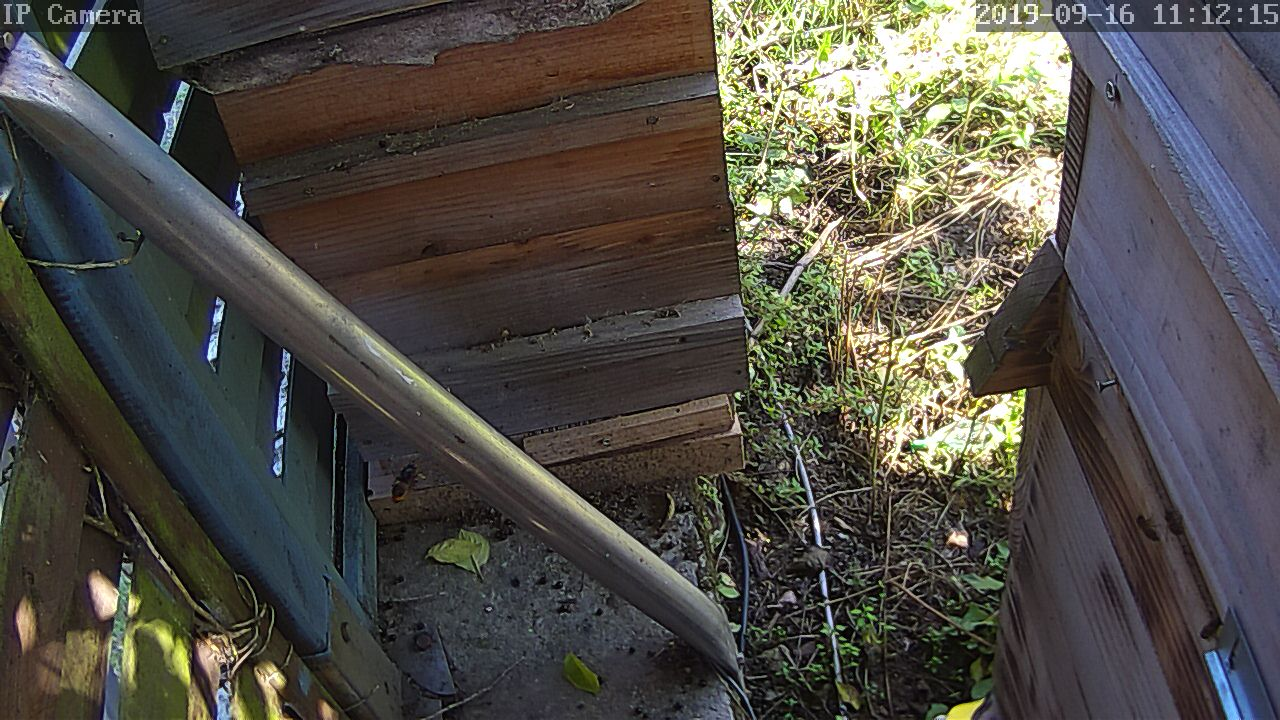hornet: (383, 456, 427, 509)
